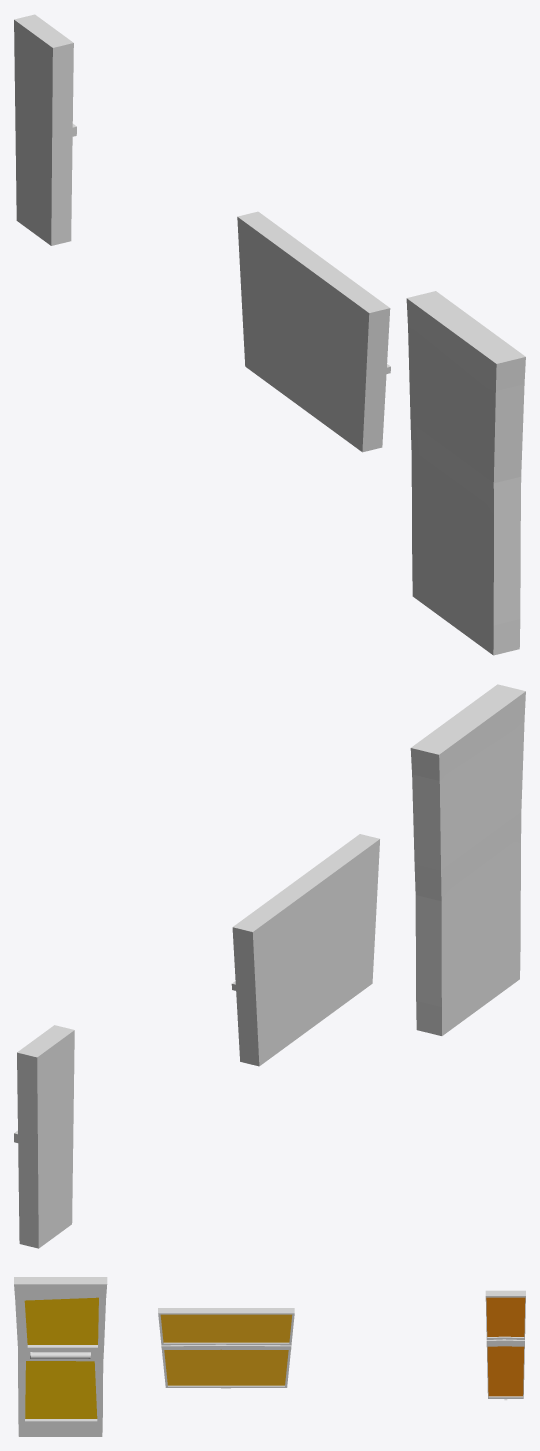
Rendered from DoABuilding01.fbx.
3 renders of one model, top to bottom at view 1: azimuth 30°, elevation 25°; view 2: azimuth 150°, elevation 25°; view 3: azimuth 270°, elevation 25°, orthographic. The views are drawn at different scales.
Visible parts, largest first — view 1: Cube.111, Cube.112, Cube.108; view 2: Cube.111, Cube.112, Cube.108; view 3: Cube.111, Cube.112, Cube.108.
Boxes of the visible parts, x1,y1,x2,y2 form: Cube.111: (406,291,525,655); Cube.112: (237,211,390,452); Cube.108: (14,14,76,245); Cube.111: (410,684,525,1035); Cube.112: (231,834,379,1066); Cube.108: (14,1025,74,1248); Cube.111: (14,1277,107,1436); Cube.112: (158,1308,294,1388); Cube.108: (485,1290,525,1400).
Bounding box in the file's own units: 15.72 × 118 × 358.
